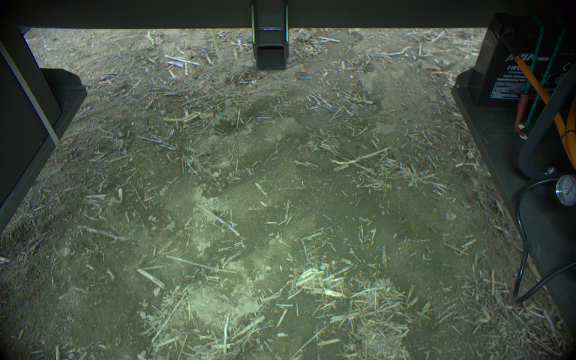aspa: (209, 30, 223, 59)
